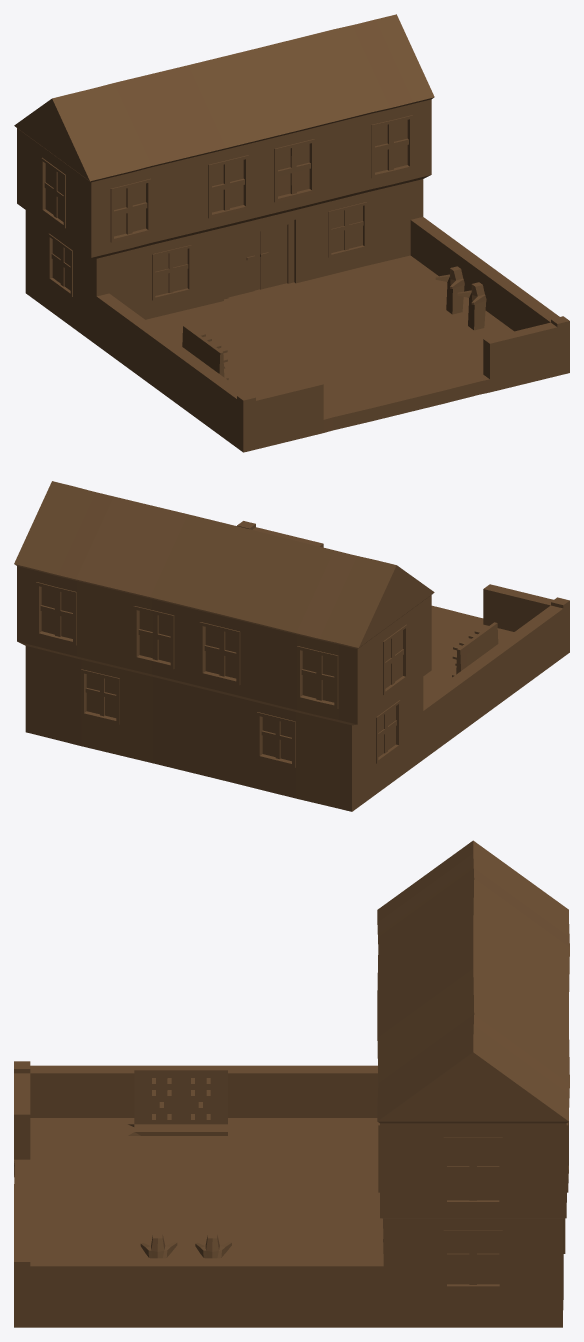
Rendered from barracks 00.obj.
3 views of the same model, one above another, from view 1: azimuth 30°, elevation 25°; view 2: azimuth 150°, elevation 25°; view 3: azimuth 270°, elevation 25° (orthographic). The views are drawn at different scales.
Parts seen in each view (by area): view 1: Plane; view 2: Plane; view 3: Plane.
Part boxes in pixels (x1,y1,x2,y2): Plane: (14,14,569,452); Plane: (14,481,569,811); Plane: (14,840,569,1327).
Bounding box in the file's own units: 5.5 × 3.4 × 6.1.
